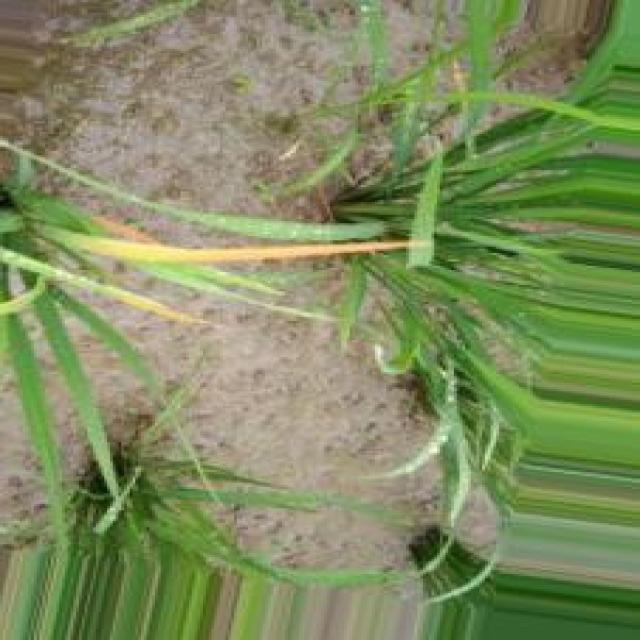Rice Tungro: (73, 236, 409, 263)
